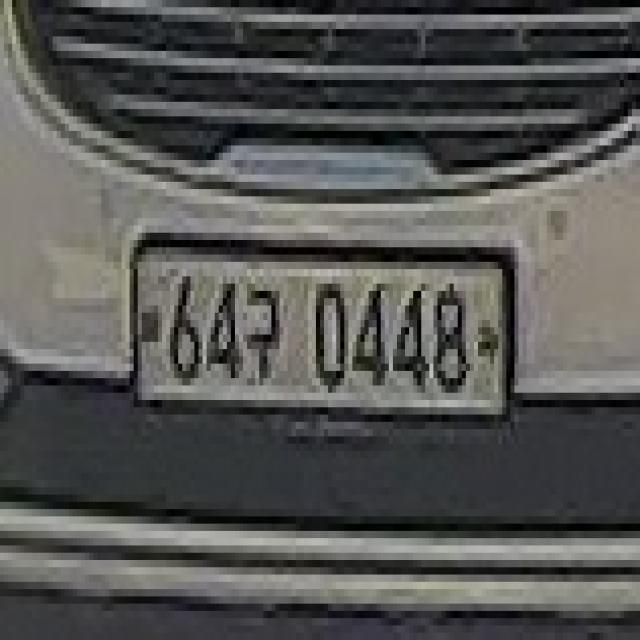plat: (127, 230, 517, 424)
